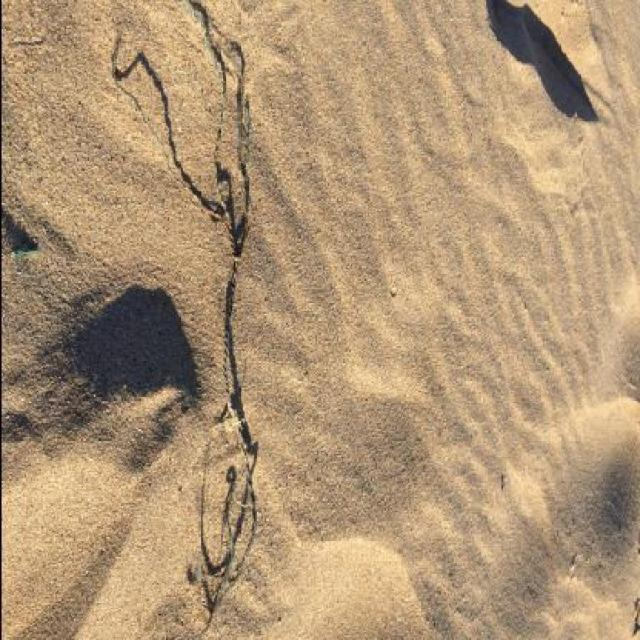other: (193, 182, 258, 586)
